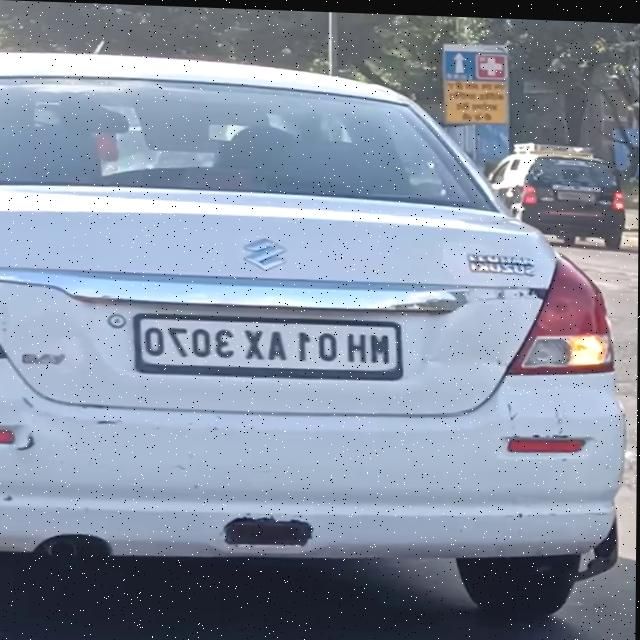plate: (130, 306, 408, 385)
